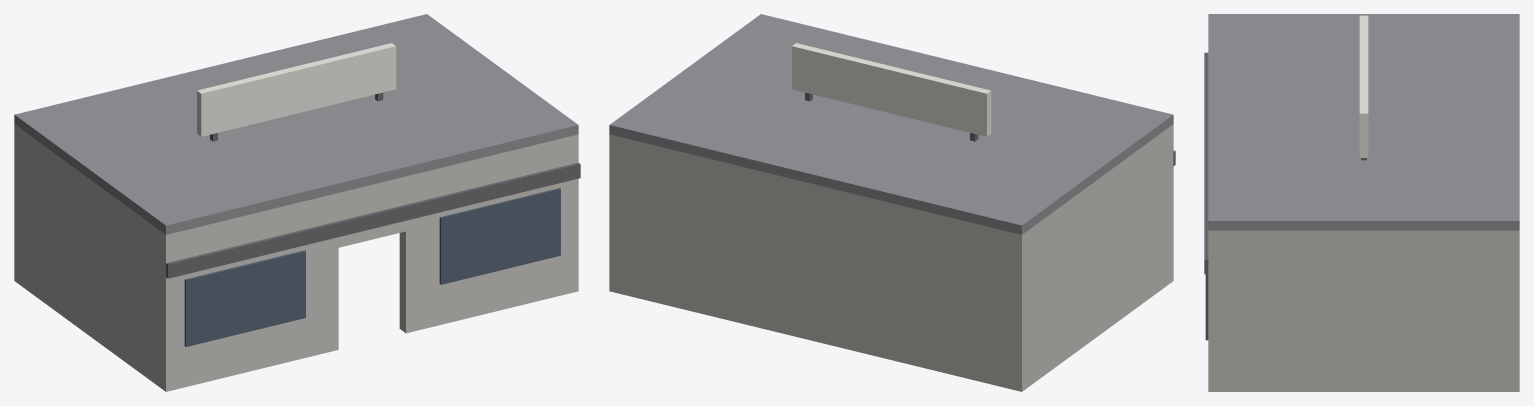
The model's file is Diner.glb.
3 renders of one model, left to right at view 1: azimuth 30°, elevation 25°; view 2: azimuth 150°, elevation 25°; view 3: azimuth 270°, elevation 25°, orthographic. The views are drawn at different scales.
Visible parts, largest first — view 1: Diner; view 2: Diner; view 3: Diner.
Part boxes in pixels (bbox=[...]): Diner: bbox=[14, 14, 580, 391]; Diner: bbox=[609, 14, 1175, 391]; Diner: bbox=[1204, 14, 1519, 391].
Size of the model in its own units: 11 by 5.55 by 7.09.
